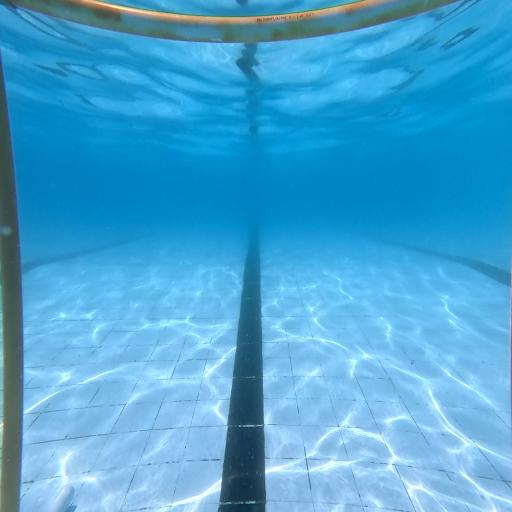gate: (1, 0, 459, 512)
